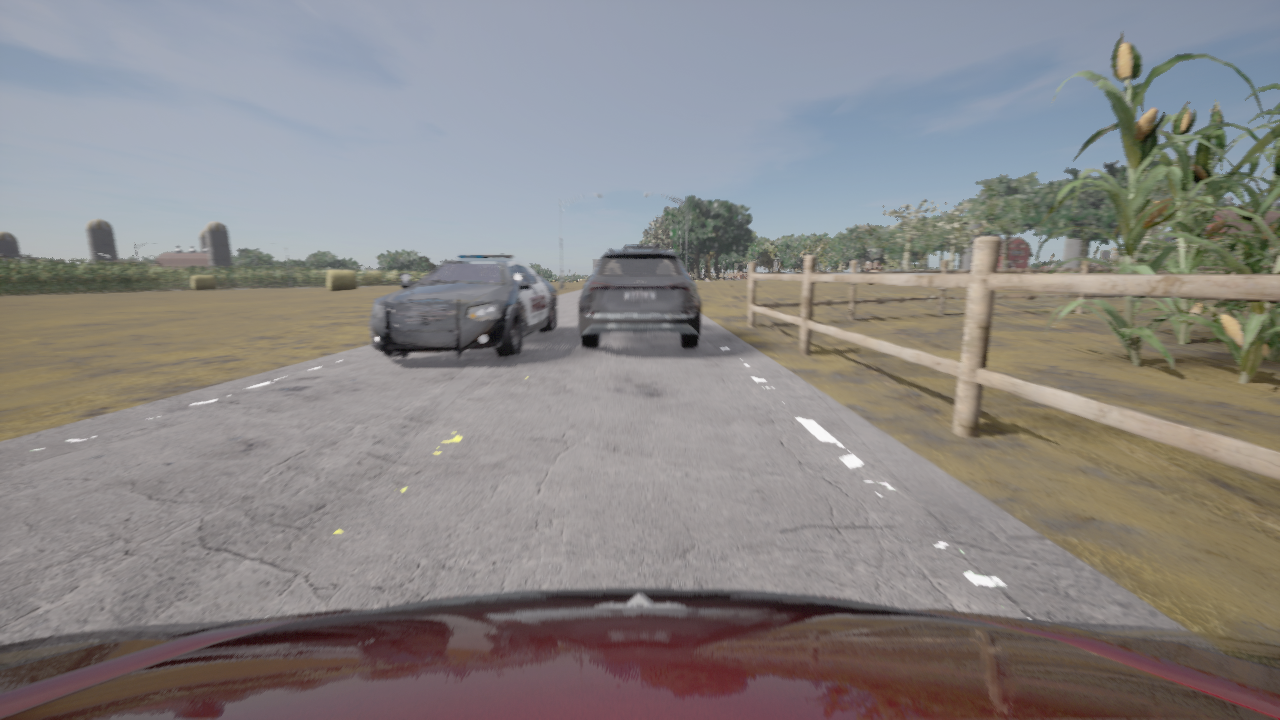cyclist: (0, 588, 1279, 719), (369, 254, 556, 359), (579, 247, 700, 348), (624, 243, 659, 249)
